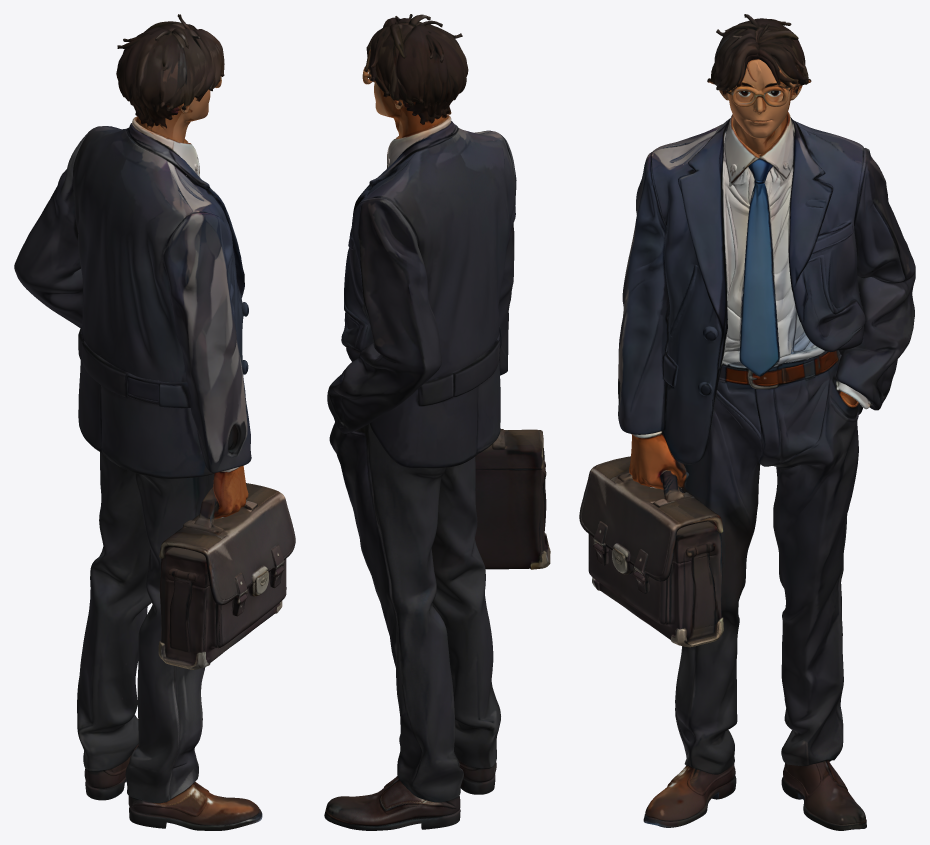
File: salaryman-visitor-01.glb
The picture shows the model from 3 angles, left to right: view 1: azimuth 30°, elevation 25°; view 2: azimuth 150°, elevation 25°; view 3: azimuth 270°, elevation 25°; orthographic projection. The views are drawn at different scales.
Visible parts, largest first — view 1: tripo_node_1a9aba8b-fc37-47af-ab0a-0bd96290266a; view 2: tripo_node_1a9aba8b-fc37-47af-ab0a-0bd96290266a; view 3: tripo_node_1a9aba8b-fc37-47af-ab0a-0bd96290266a.
Boxes of the visible parts, <box> form: tripo_node_1a9aba8b-fc37-47af-ab0a-0bd96290266a: <box>14,14,295,830</box>; tripo_node_1a9aba8b-fc37-47af-ab0a-0bd96290266a: <box>324,14,550,830</box>; tripo_node_1a9aba8b-fc37-47af-ab0a-0bd96290266a: <box>579,14,915,830</box>.
Bounding box in the file's own units: 0.2197 × 0.9805 × 0.374.
Materials: 1 (1 with a texture image).
